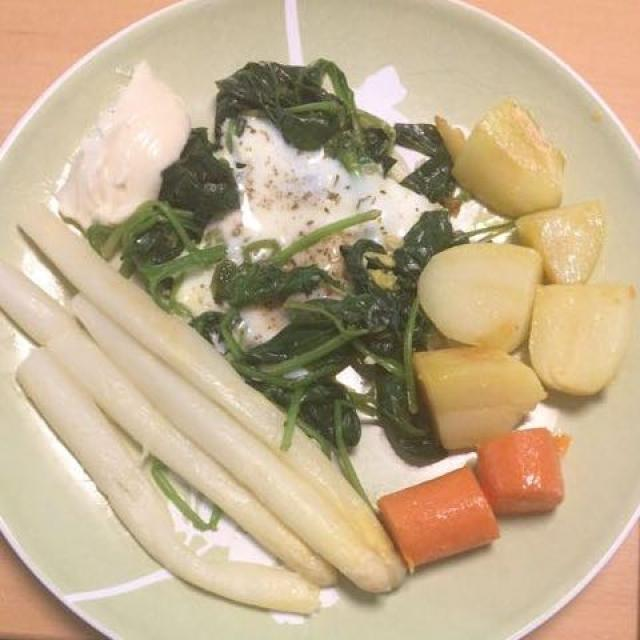asparagus: (6, 197, 431, 611)
carrot: (351, 424, 570, 590)
mayonnaise: (65, 66, 209, 237)
potatoes: (409, 94, 623, 445)
spinach: (121, 64, 473, 498)
